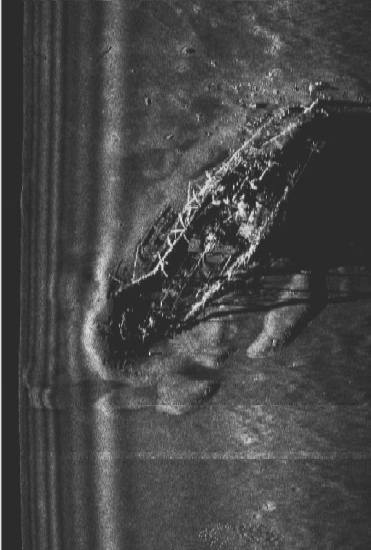ship: (117, 97, 330, 342)
